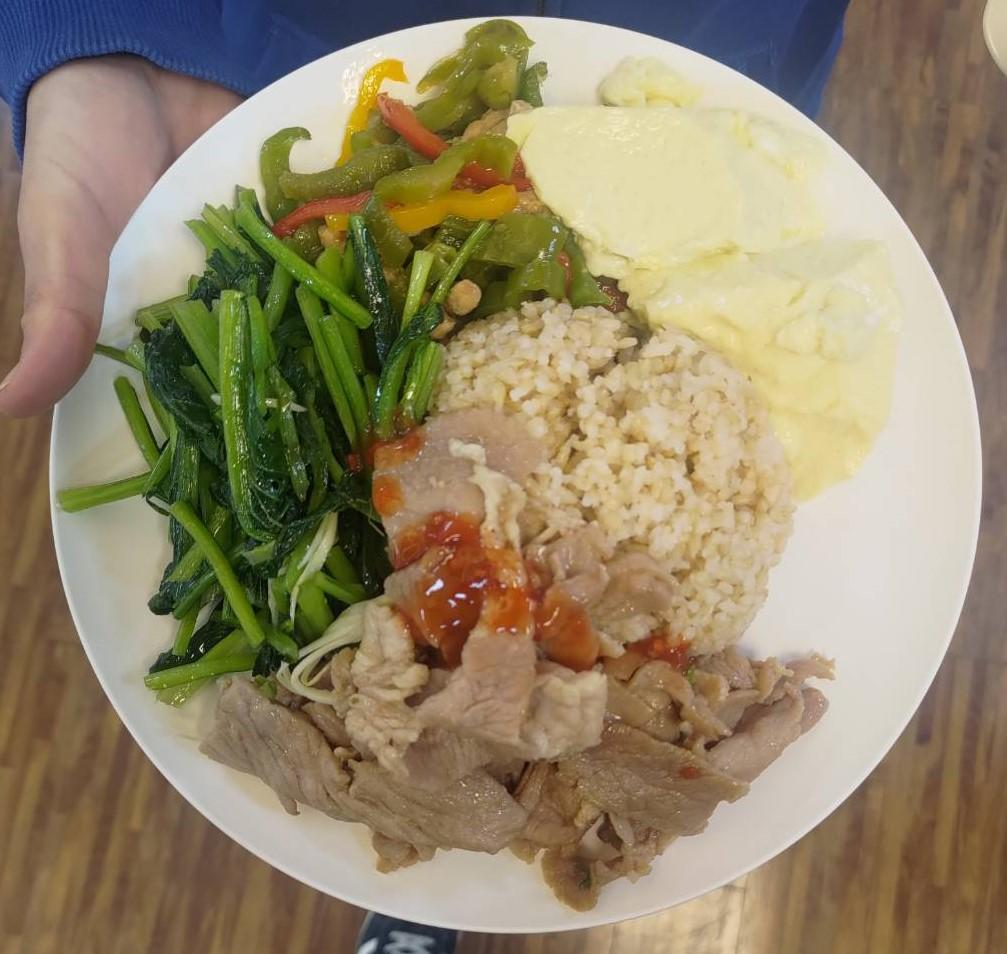big fried chicken leg: (48, 18, 998, 954)
box: (448, 304, 783, 657)
braised fish fillet: (518, 72, 905, 496), (110, 206, 420, 684), (271, 22, 586, 324)
braised pork: (187, 595, 848, 908)
